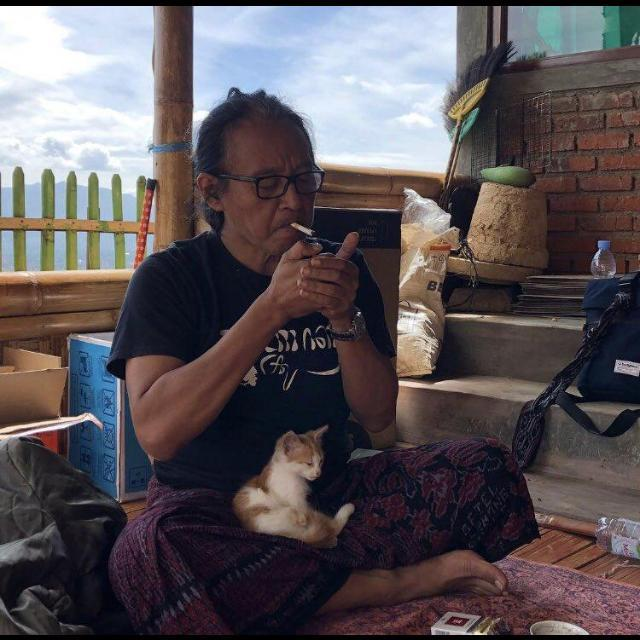rokok: (290, 219, 316, 237)
